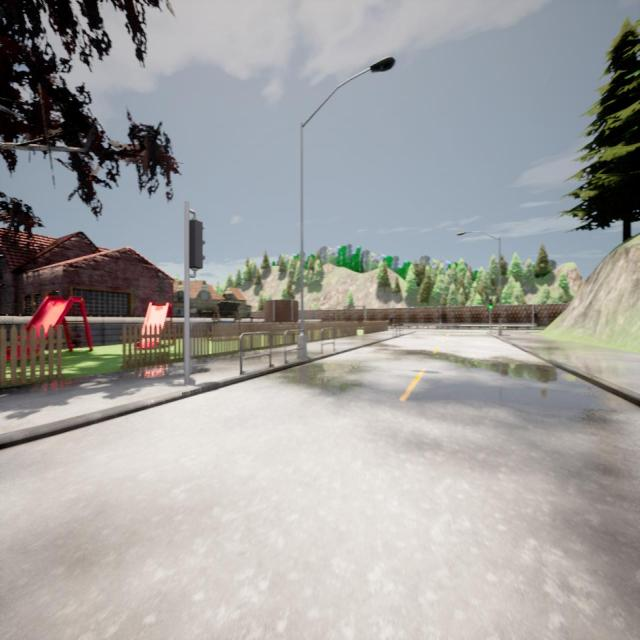traffic_light: (189, 219, 206, 271), (489, 298, 492, 310)
